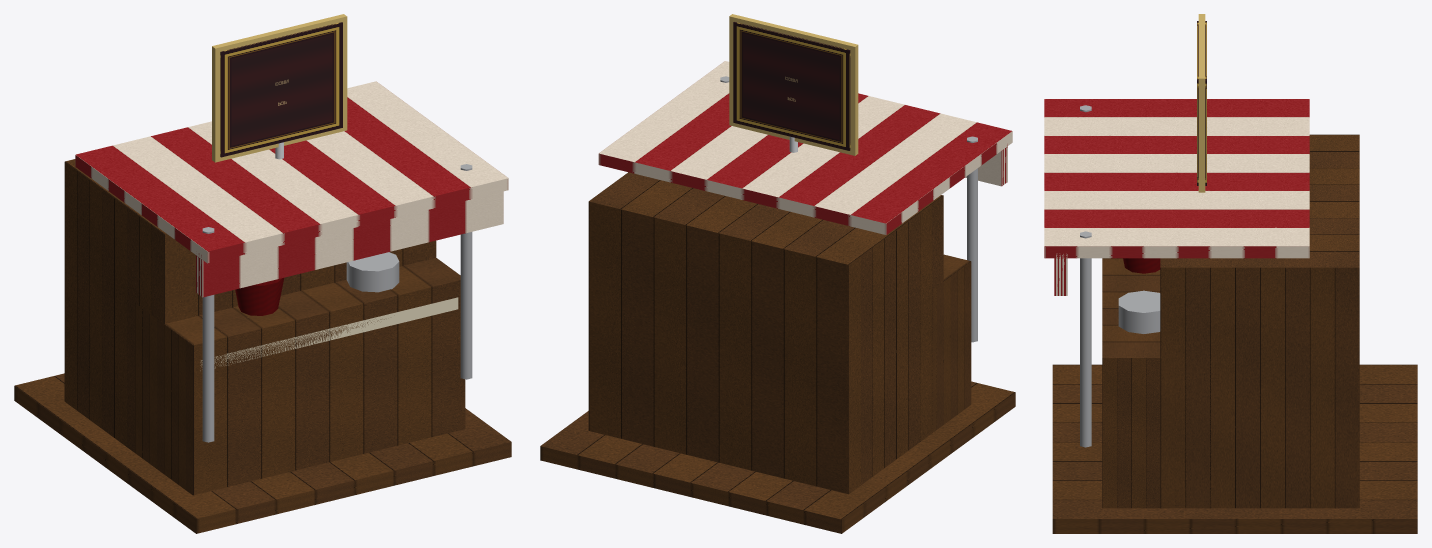
The model's file is vendor_popcorn.glb.
3 views of the same model, side by side, from view 1: azimuth 30°, elevation 25°; view 2: azimuth 150°, elevation 25°; view 3: azimuth 270°, elevation 25° (orthographic). The views are drawn at different scales.
Visible parts, largest first — view 1: base, sign, prop; view 2: base, sign; view 3: base, sign, prop.
Boxes of the visible parts, x1,y1,x2,y2 form: base: [14, 81, 511, 533]; sign: [212, 14, 347, 162]; prop: [235, 277, 284, 315]; base: [540, 61, 1015, 533]; sign: [729, 14, 858, 155]; base: [1044, 99, 1417, 533]; sign: [1197, 14, 1206, 192]; prop: [1123, 258, 1160, 273].
Bounding box in the file's own units: 2.2 × 2.73 × 2.25.
Materials: 9 (4 with a texture image).
